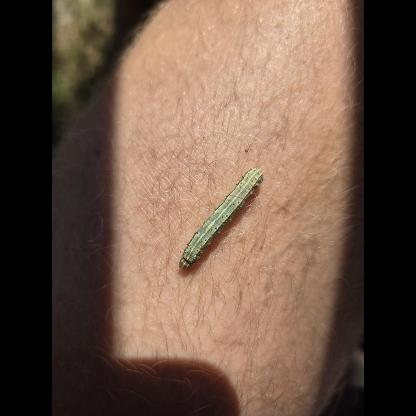Fall Armyworm Larvae: (177, 165, 267, 273)
